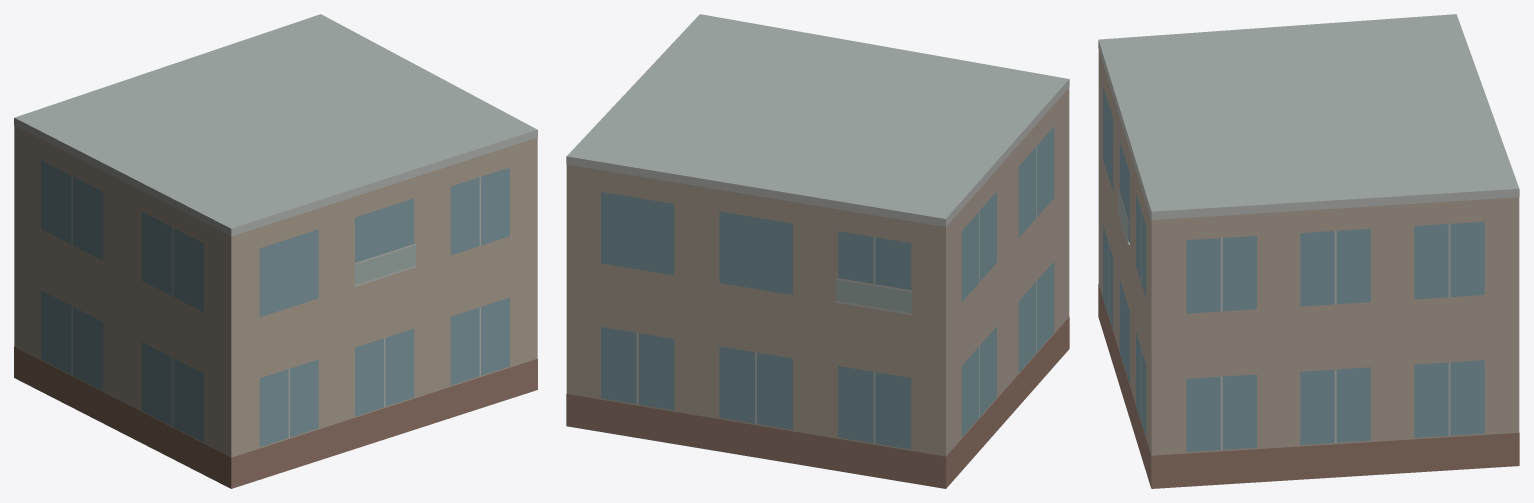
The model's file is survey-upis-32962200.glb.
3 views of the same model, side by side, from view 1: azimuth 30°, elevation 25°; view 2: azimuth 150°, elevation 25°; view 3: azimuth 270°, elevation 25° (orthographic). The views are drawn at different scales.
Visible parts, largest first — view 1: survey-upis-32962200.tmp; view 2: survey-upis-32962200.tmp; view 3: survey-upis-32962200.tmp.
Boxes of the visible parts, <box> form: survey-upis-32962200.tmp: <box>14,14,537,488</box>; survey-upis-32962200.tmp: <box>566,14,1069,488</box>; survey-upis-32962200.tmp: <box>1098,14,1519,488</box>.
Size of the model in its own units: 12.4 by 8.1 by 11.16.
